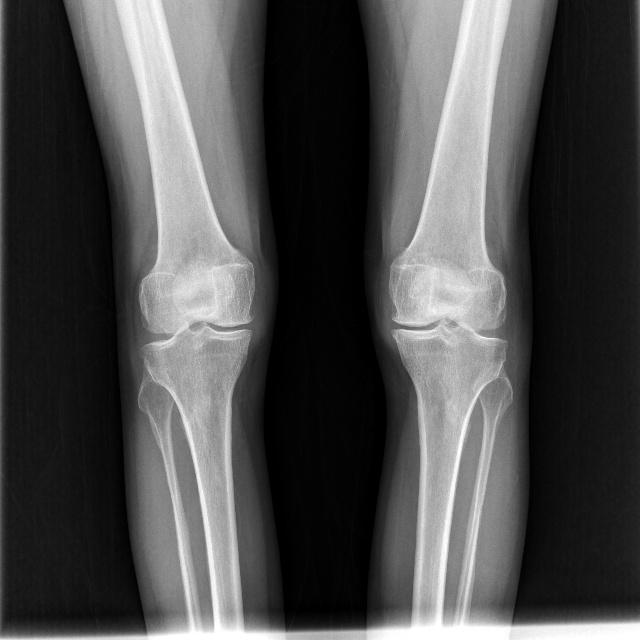Knee: (132, 253, 259, 405), (385, 259, 510, 396)
